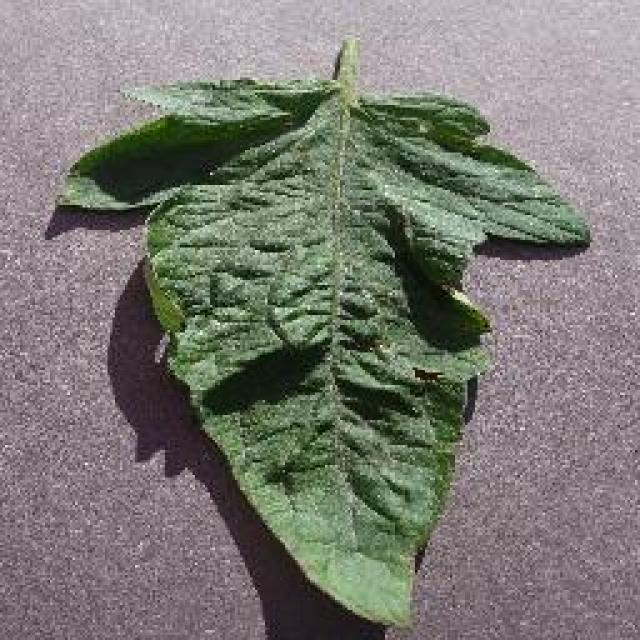Tomato___Target_Spot: (58, 40, 588, 622)
